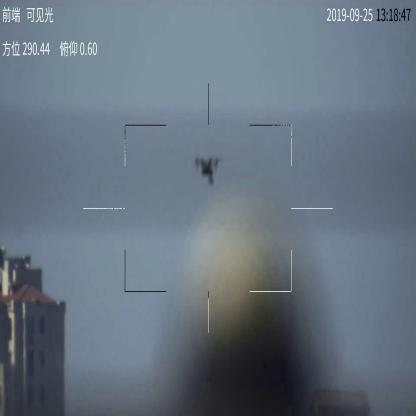uav: (194, 156, 223, 187)
